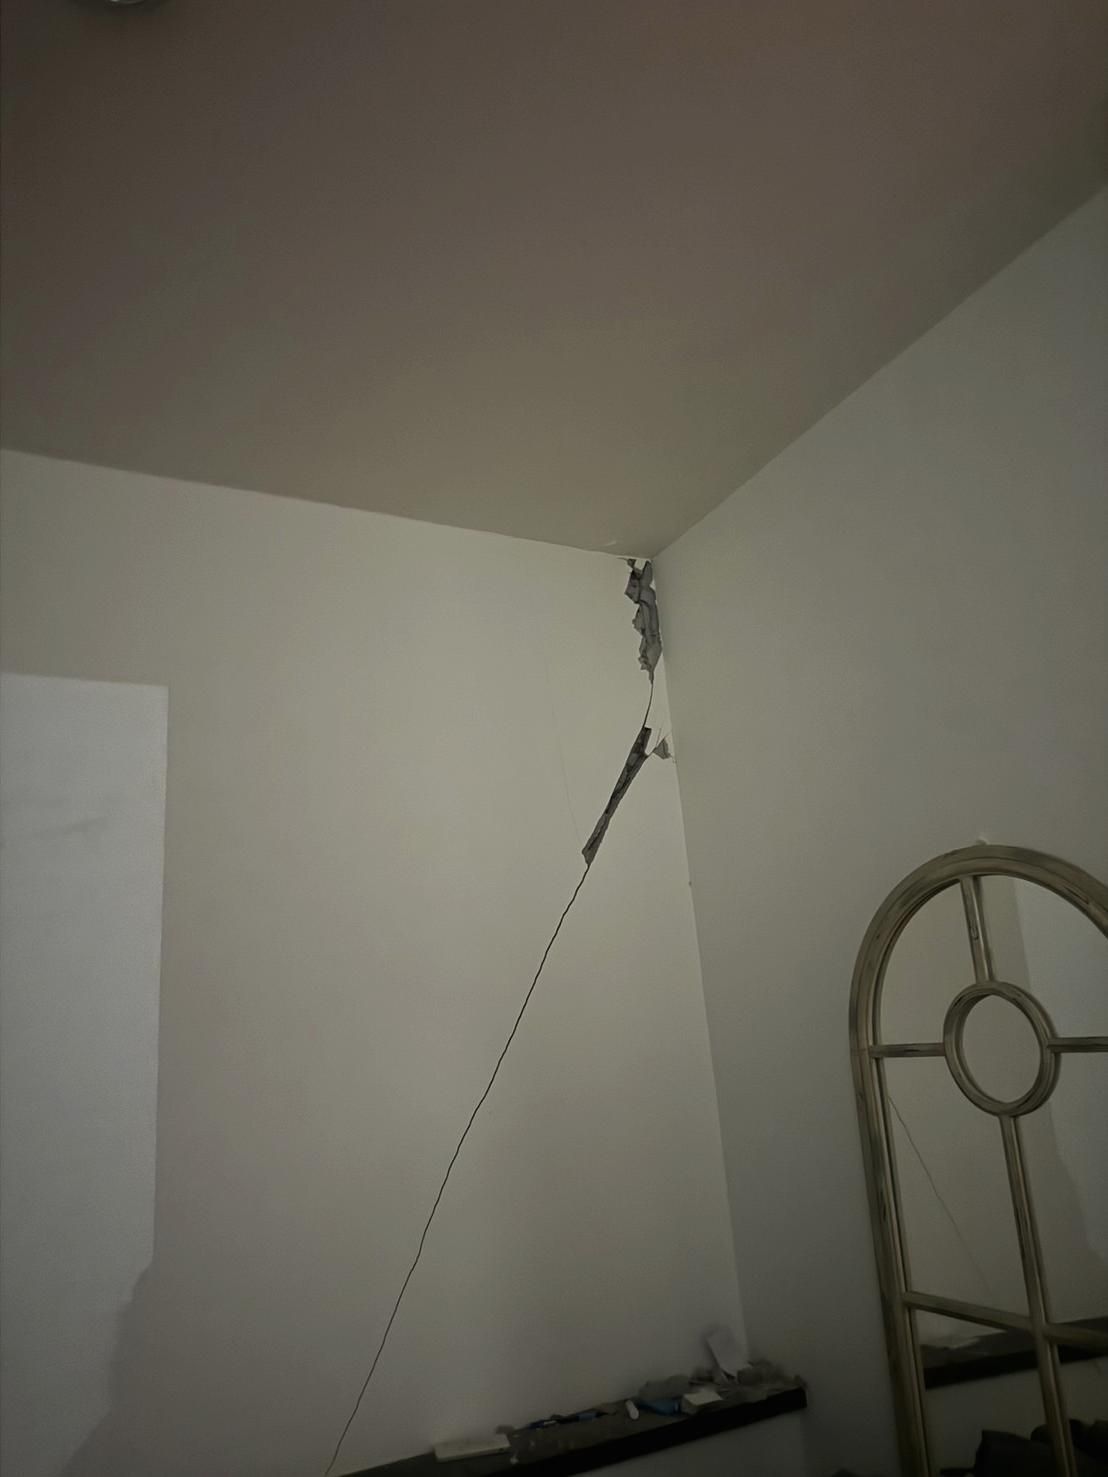High: (317, 544, 679, 1477)
